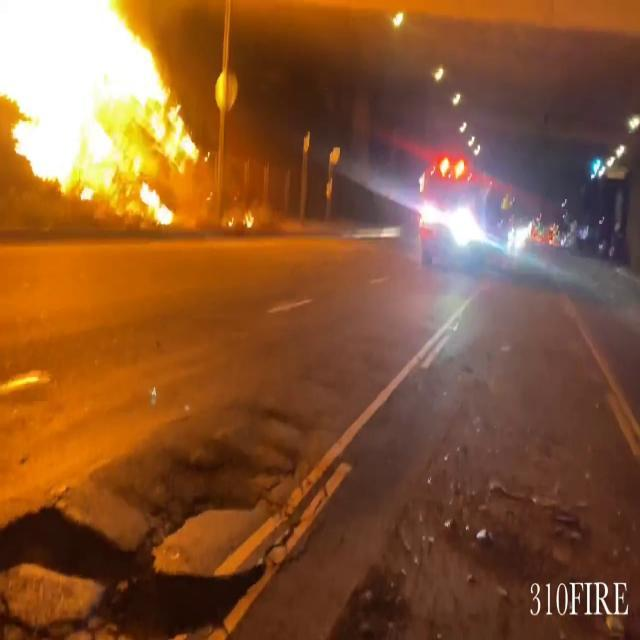Fire: (0, 0, 214, 219)
